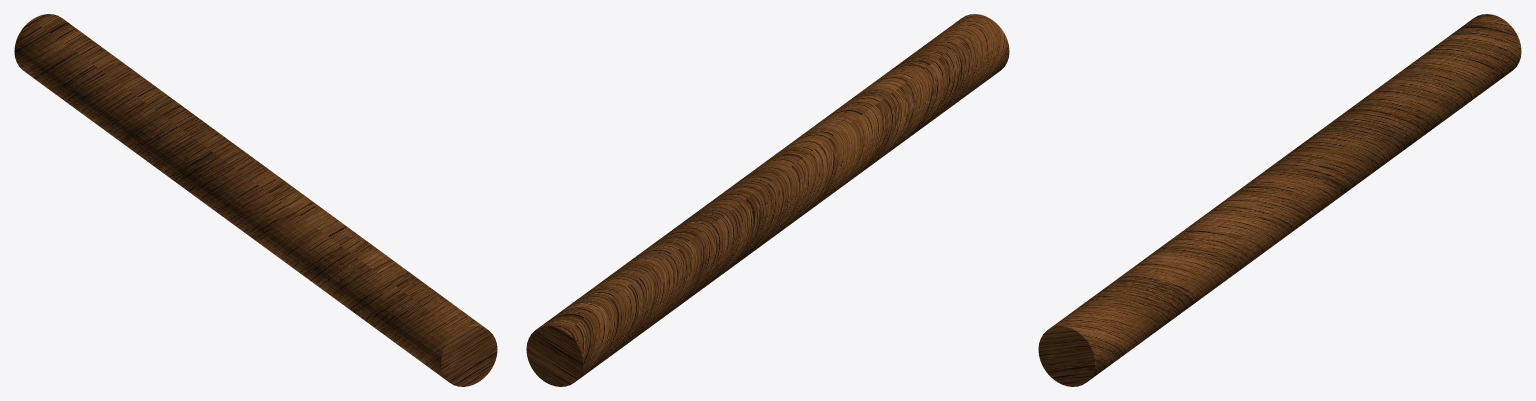
File: collectableBoom.glb
3 renders of one model, left to right at view 1: azimuth 30°, elevation 25°; view 2: azimuth 150°, elevation 25°; view 3: azimuth 330°, elevation 25°, orthographic.
Visible parts, largest first — view 1: Raft Pole.001; view 2: Raft Pole.001; view 3: Raft Pole.001.
Boxes of the visible parts, x1,y1,x2,y2 form: Raft Pole.001: (14, 14, 497, 386); Raft Pole.001: (526, 14, 1009, 386); Raft Pole.001: (1038, 14, 1521, 386).
Size of the model in its own units: 0.2 by 0.2 by 2.61.
Materials: 1 (1 with a texture image).
